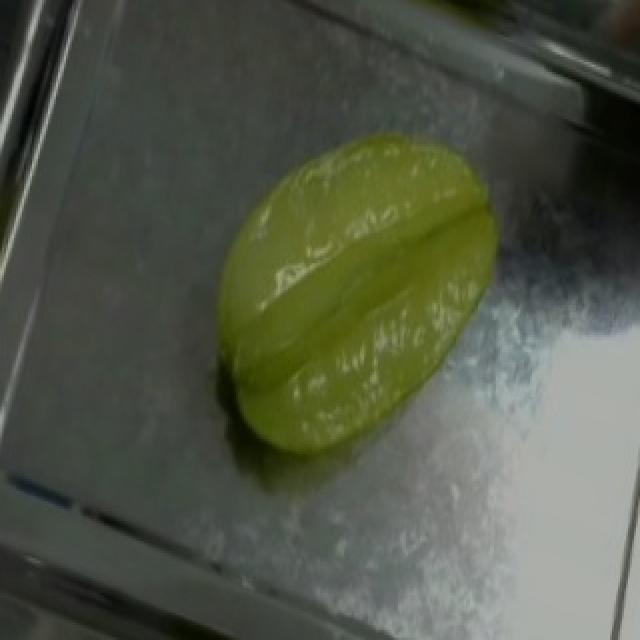fruit: (162, 82, 552, 479)
